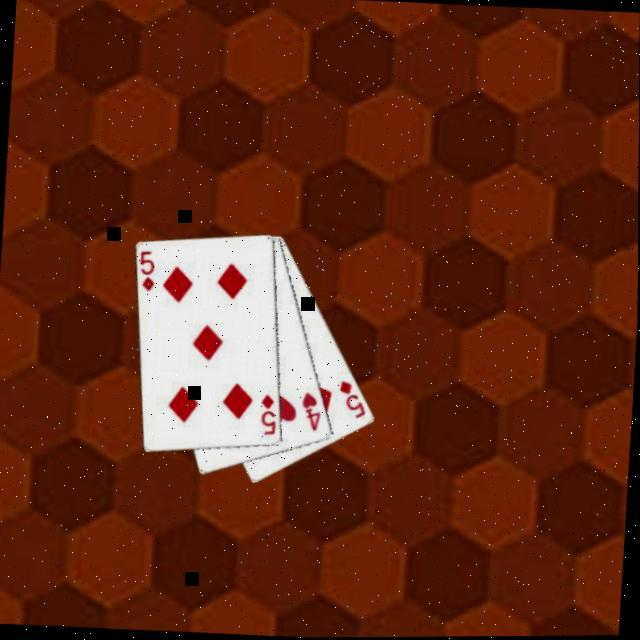4H: (298, 391, 324, 435)
5D: (334, 378, 368, 424), (134, 248, 158, 296), (256, 393, 280, 440)
